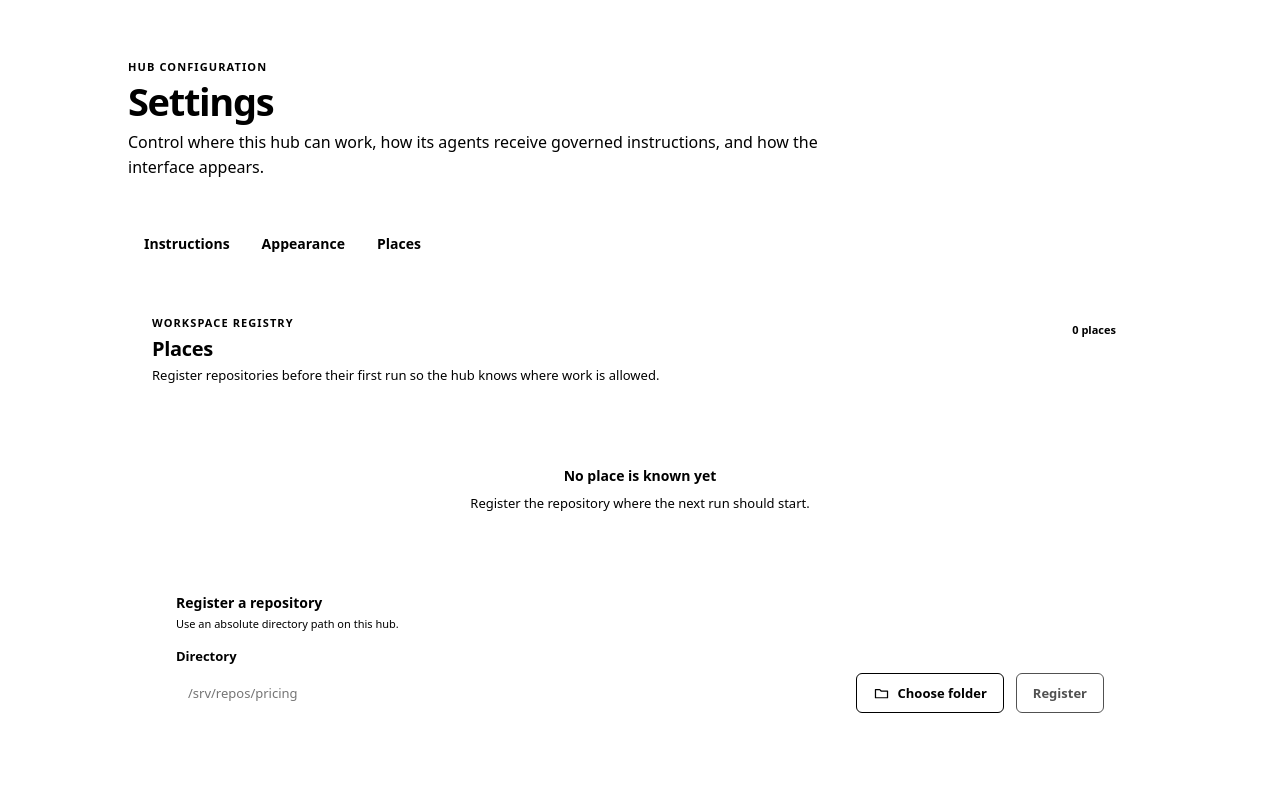
Test case: shows the server's own reason where the directory was typed
In the field labelled "Directory": point(512, 693) [176,673,848,713], type "/srv/gone"
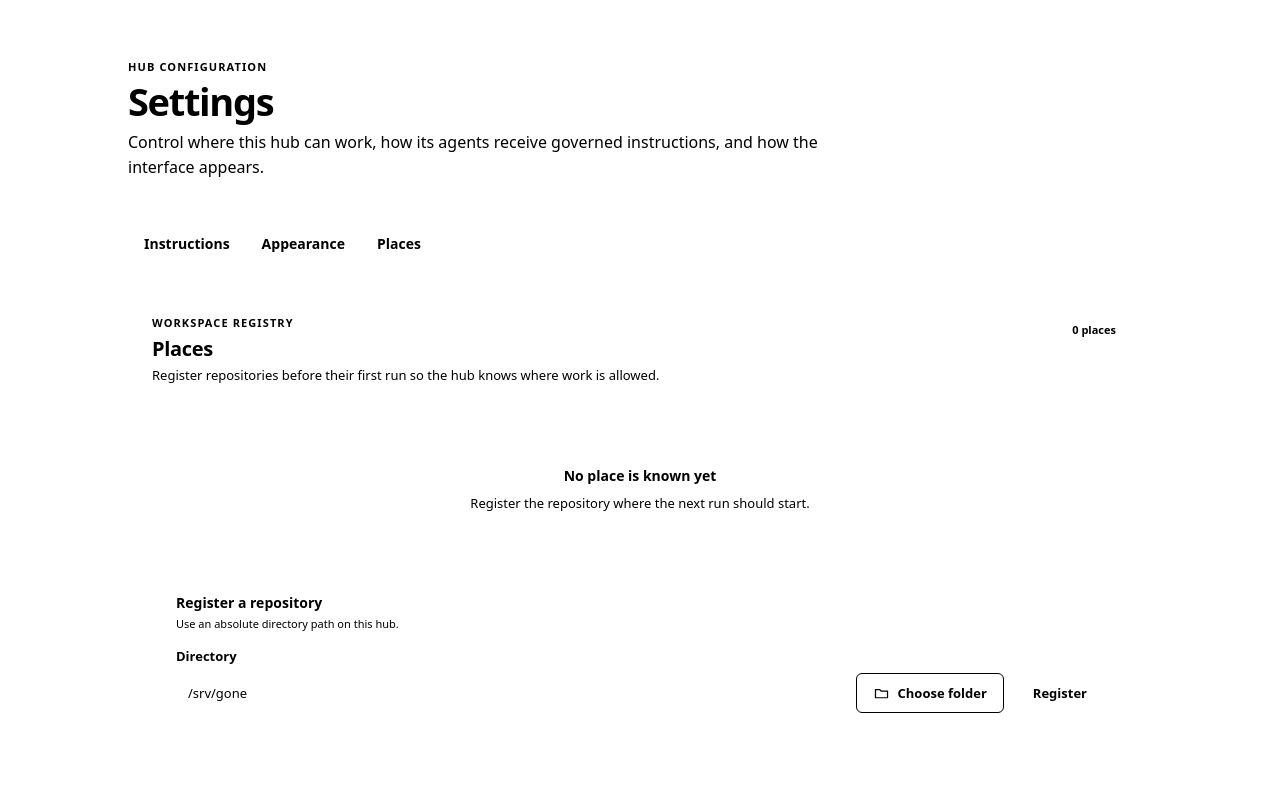
Click the button "Register": point(1060, 693) [1016,673,1104,713]
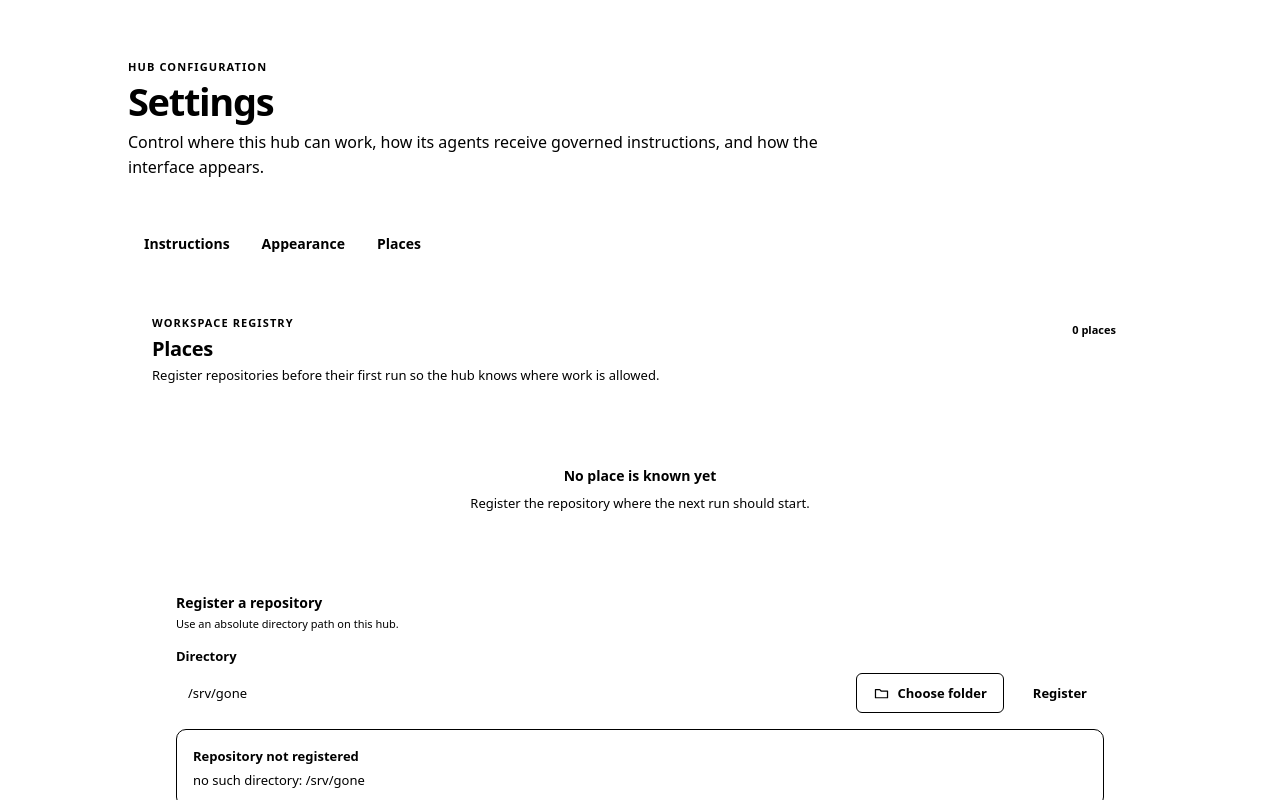
Expected: the text "No place is known yet" is shown, [564,466,716,485]
Replace the text in the field labelled "Directory" with "/srv/notes": point(512, 693) [176,673,848,713]
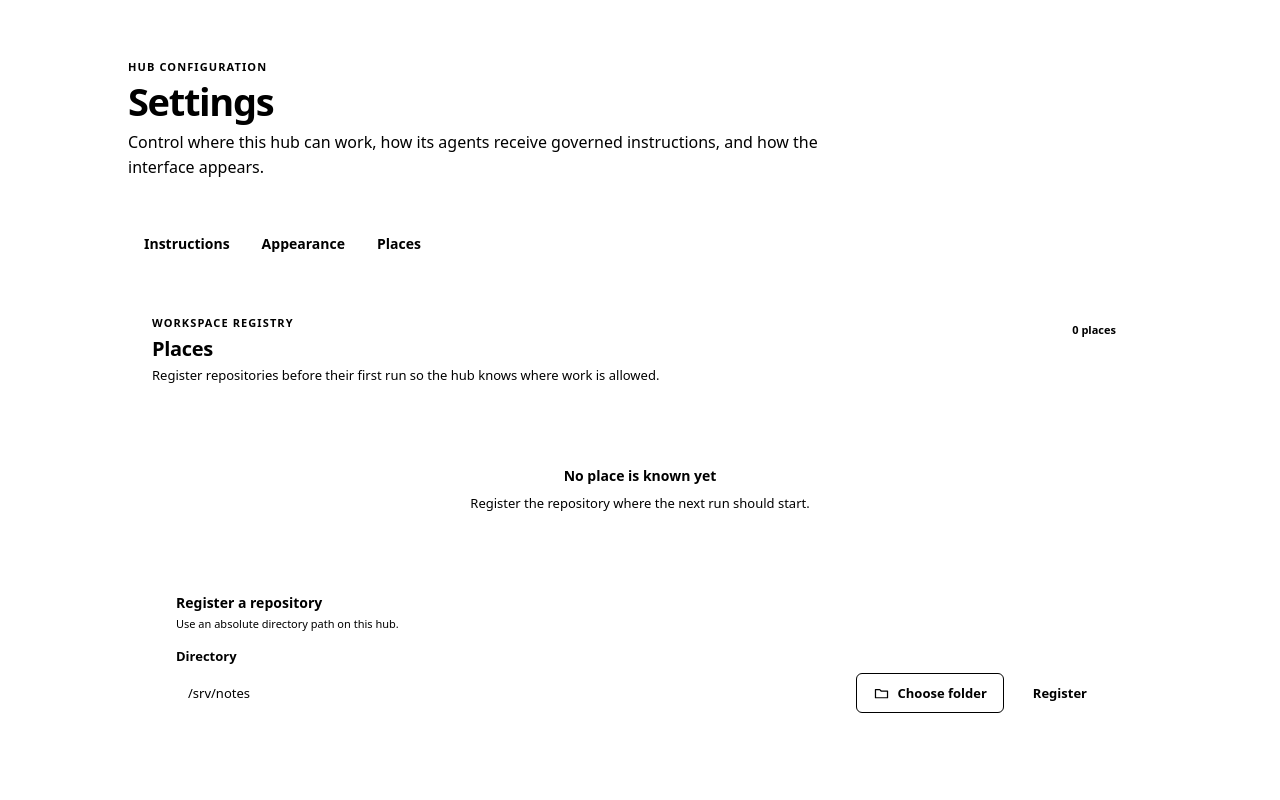
Click the button "Register": point(1060, 693) [1016,673,1104,713]
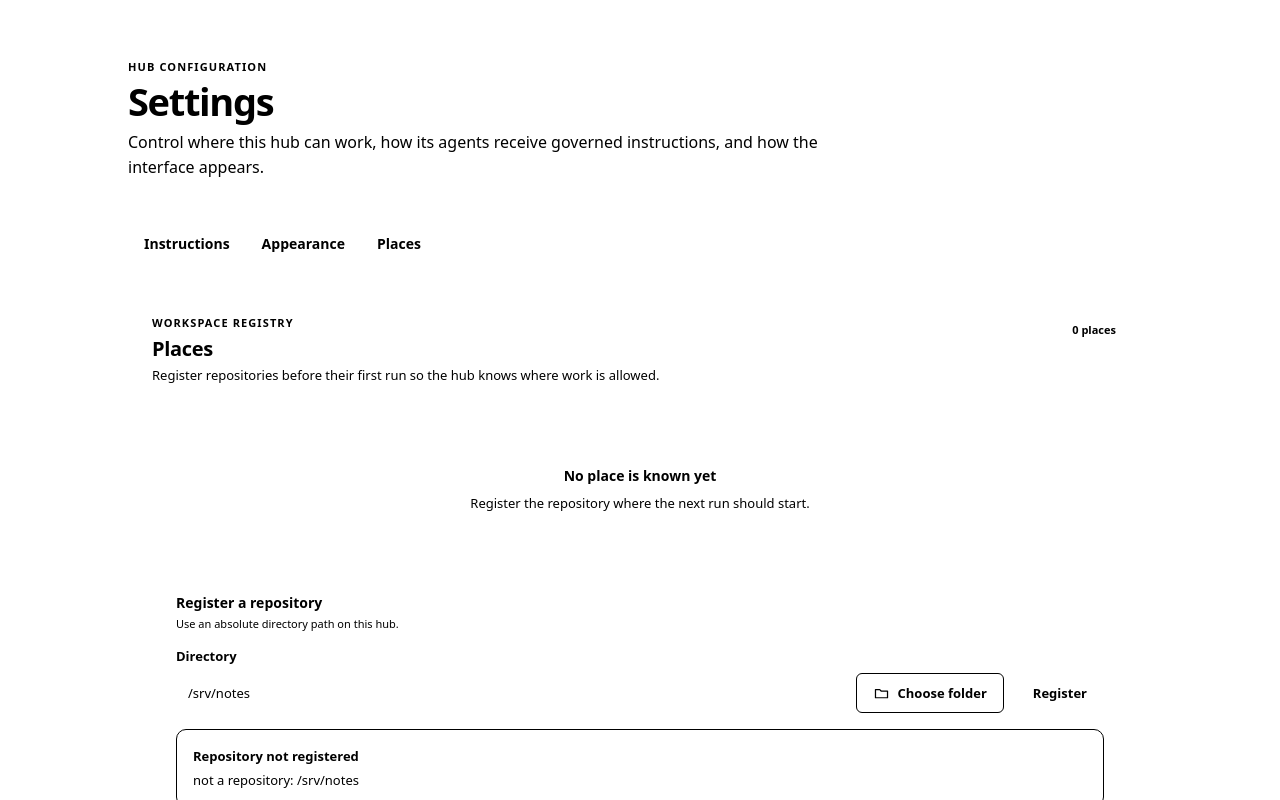
Expected: the text "No place is known yet" is shown, [564,466,716,485]
Replace the text in the field labelled "Directory" with "srv/repos/pricing": point(512, 693) [176,673,848,713]
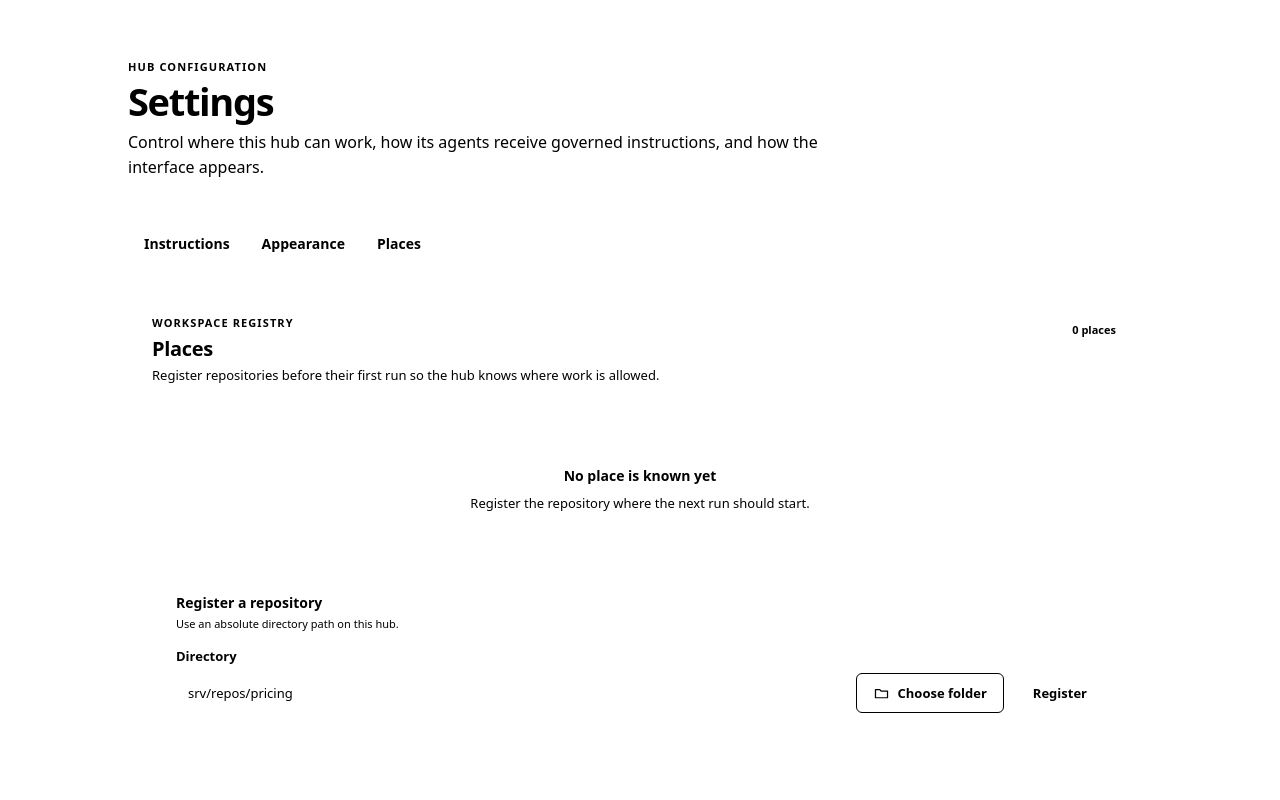
Click the button "Register": point(1060, 693) [1016,673,1104,713]
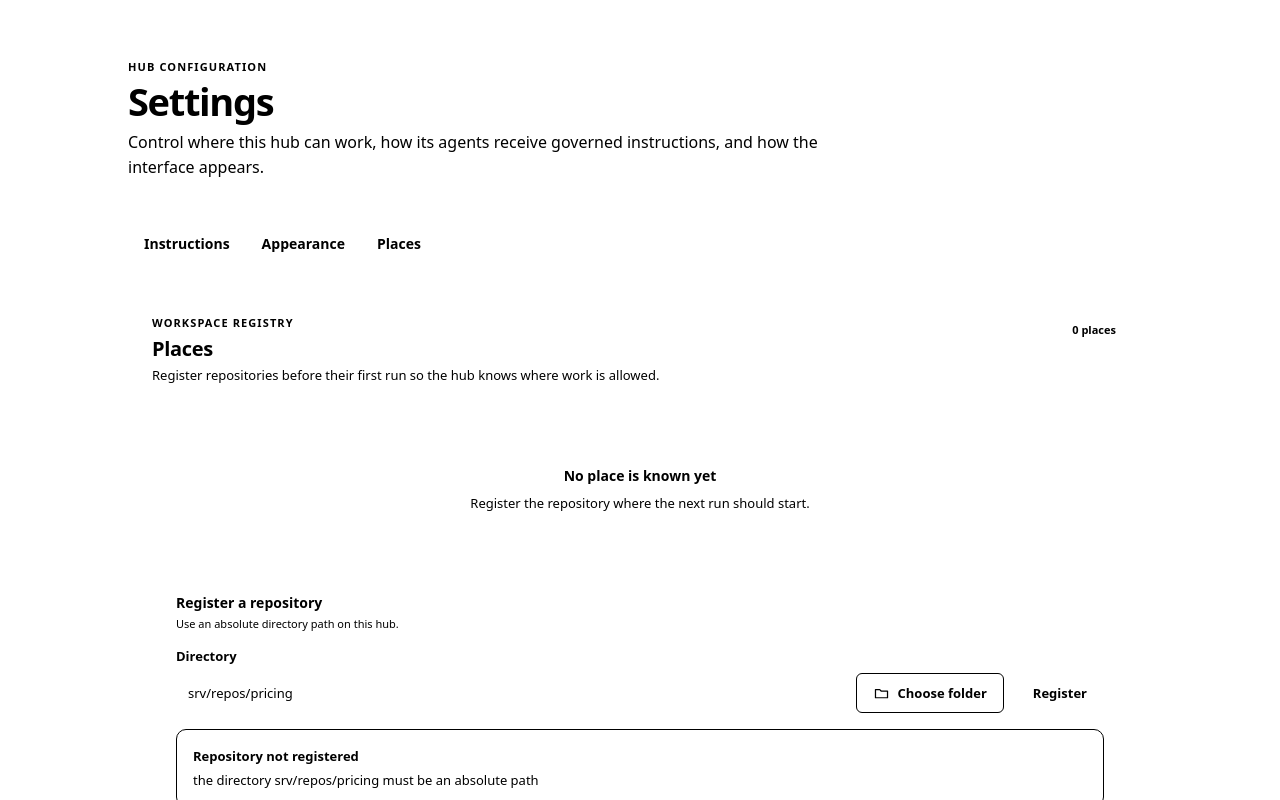
Expected: the text "No place is known yet" is shown, [564,466,716,485]
Expected: the message that starts with "Repository not registered" shows "absolute", [193,771,539,789]
